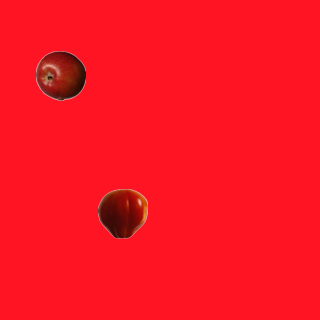Apple Braeburn: (35, 50, 85, 100)
Tomato 1: (97, 188, 147, 238)
